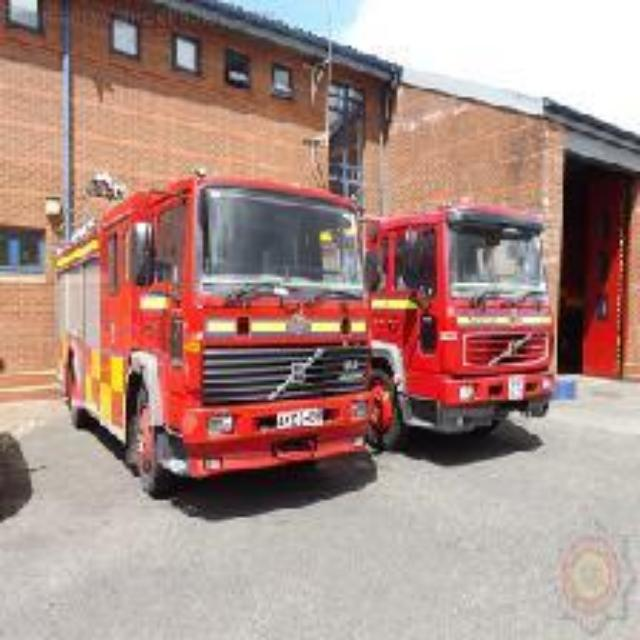emergency: (41, 191, 372, 491), (380, 201, 560, 441)
